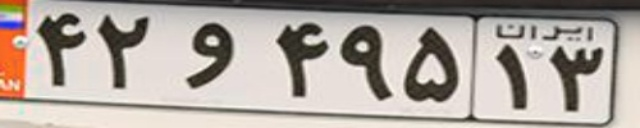1: (493, 43, 536, 109)
2: (96, 13, 150, 89)
3: (546, 45, 604, 112)
4: (274, 22, 328, 98), (38, 12, 85, 87)
5: (403, 26, 459, 101)
9: (341, 24, 395, 99)
vav: (188, 22, 235, 86)
